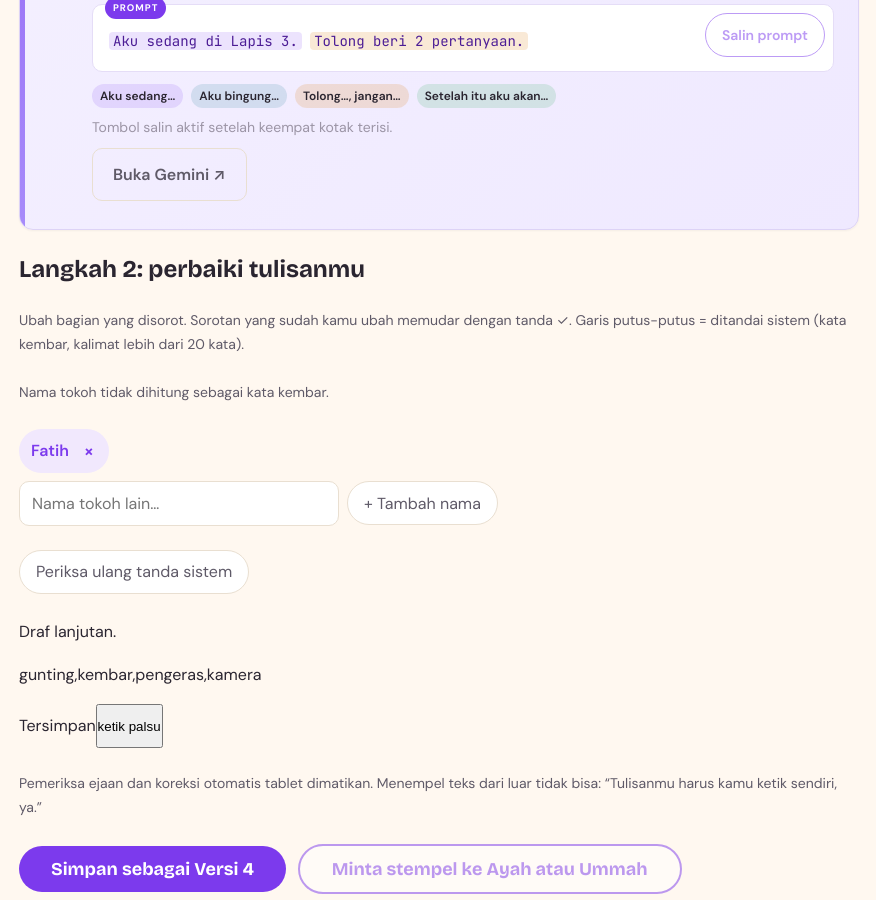
Scenario: Revisi per lapis › Nama tokoh: hapus dan tambah nama, lalu tanda sistem diperbarui
(page scrolled)
Expected: the text "Nama tokoh tidak dihitung sebagai kata kembar." is shown, x1=19 y1=383 x2=329 y2=401
Expected: the text "Fatih" is shown, x1=31 y1=437 x2=69 y2=464
Click the button named "Hapus nama Fatih". click: (89, 450)
box: x1=73 y1=428 x2=105 y2=472
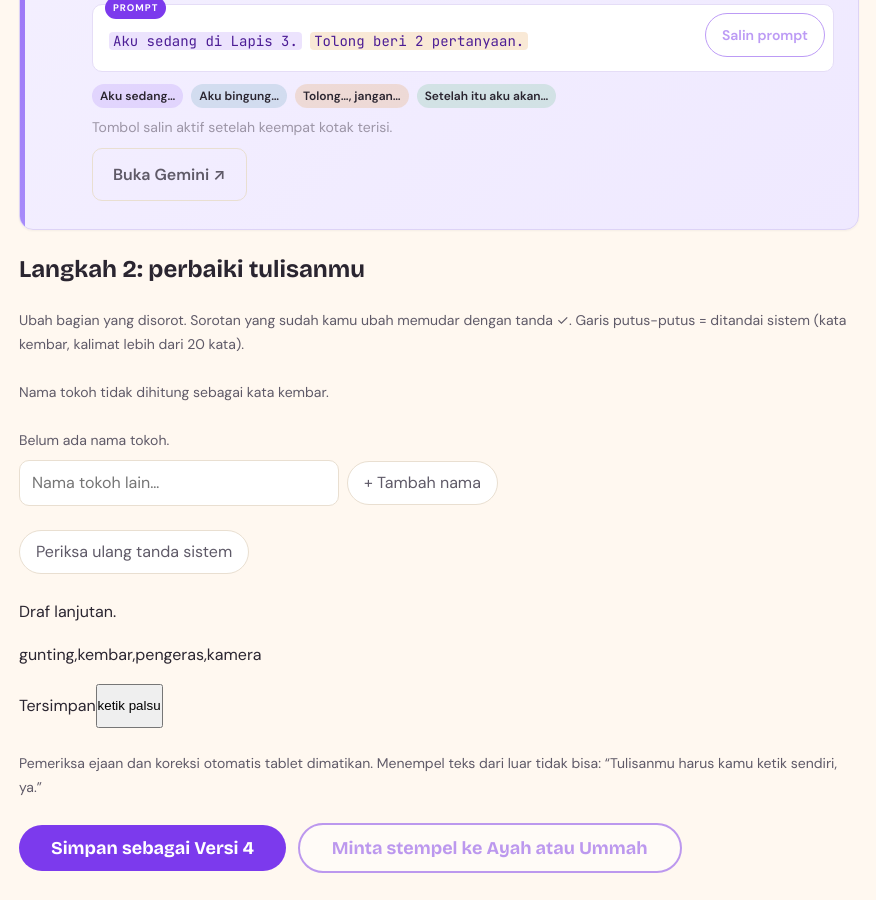
Result: the text "Fatih" is gone
Type "Bu Siti" into the field named "Tambah nama tokoh". click: (179, 483)
box: x1=19 y1=460 x2=339 y2=506
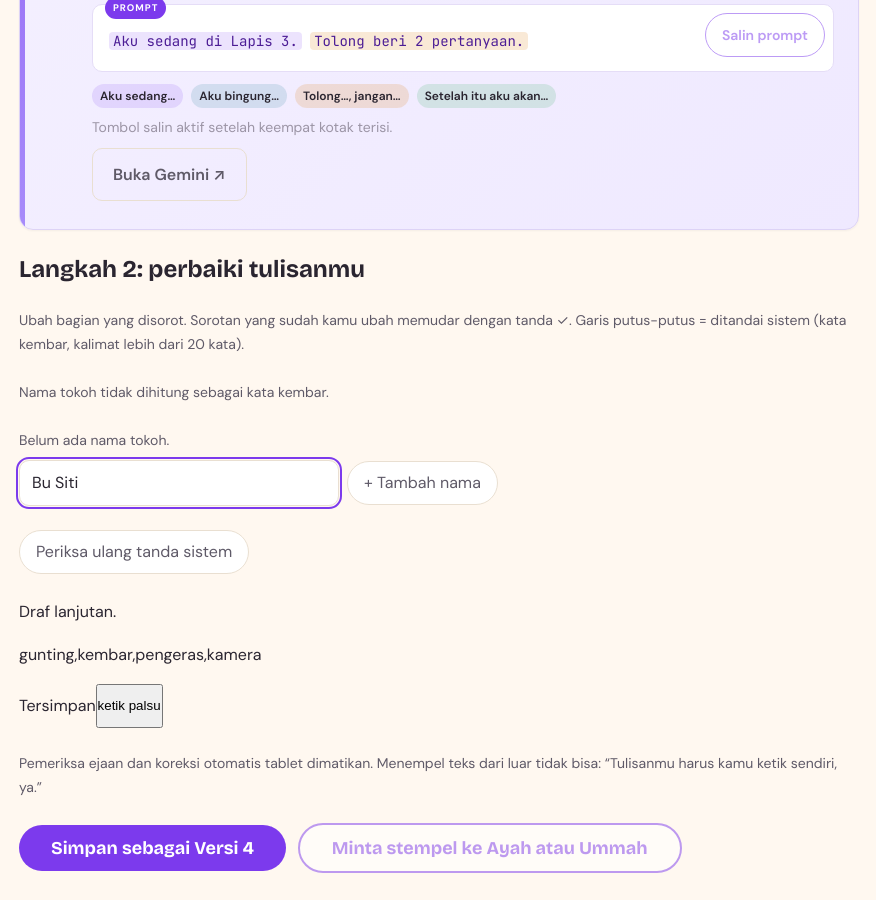
Click the button "+ Tambah nama". click: (422, 483)
box: x1=347 y1=461 x2=498 y2=505
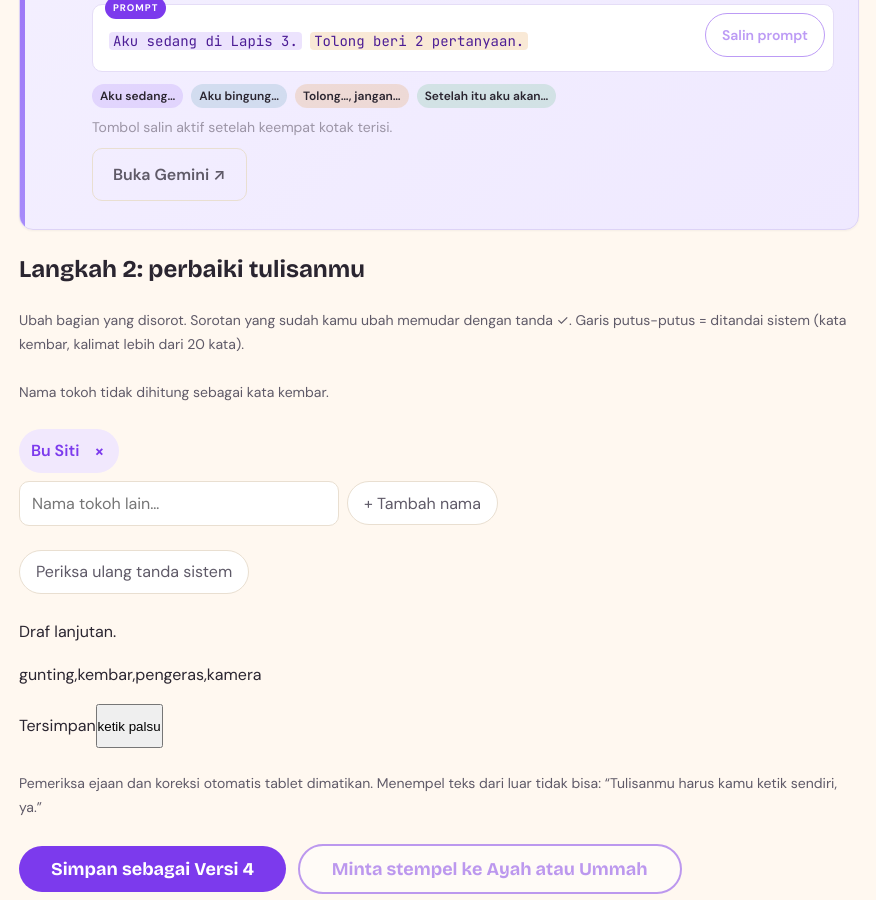
Result: the text "Bu Siti" is shown at x1=31 y1=437 x2=79 y2=464
Result: the field named "Tambah nama tokoh" is empty at x1=19 y1=480 x2=339 y2=526
